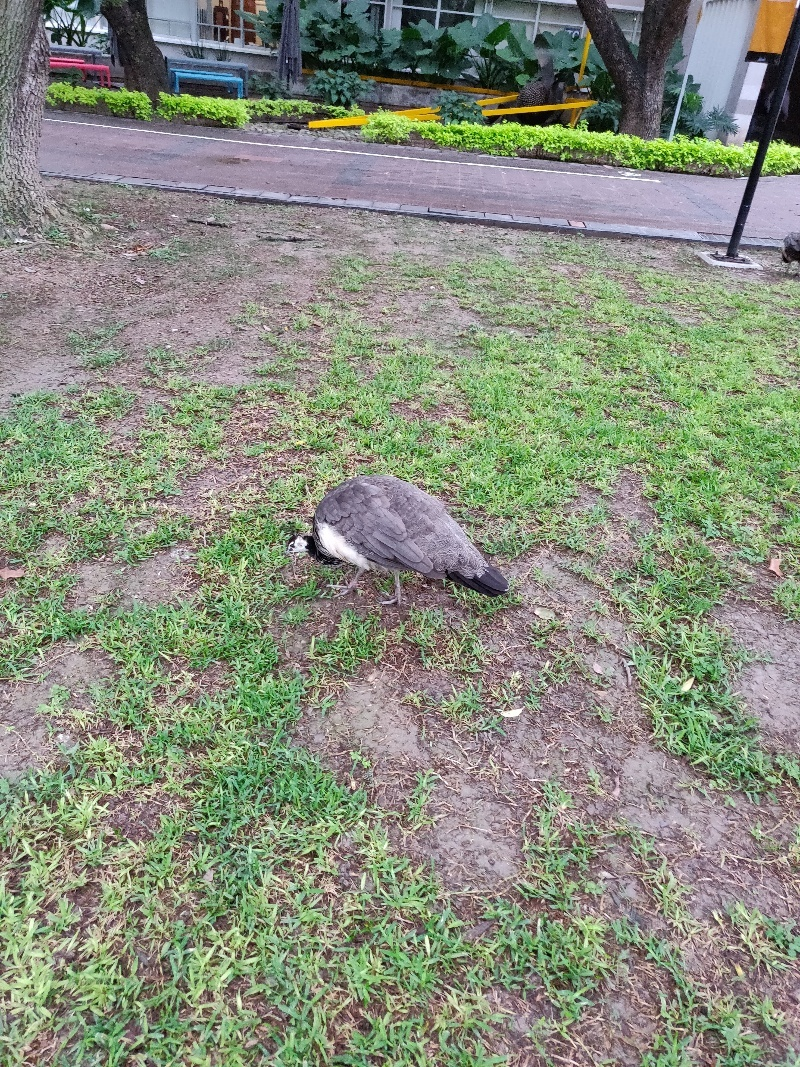pavoreal: (288, 471, 512, 616)
